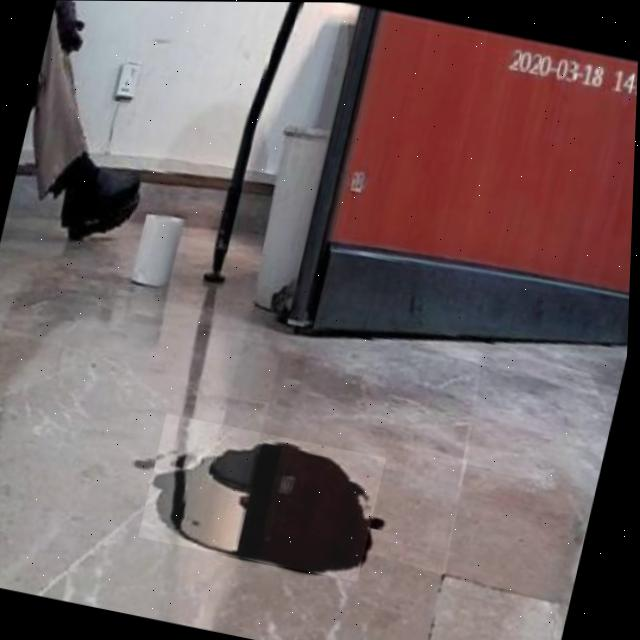spillage: (155, 439, 373, 580)
